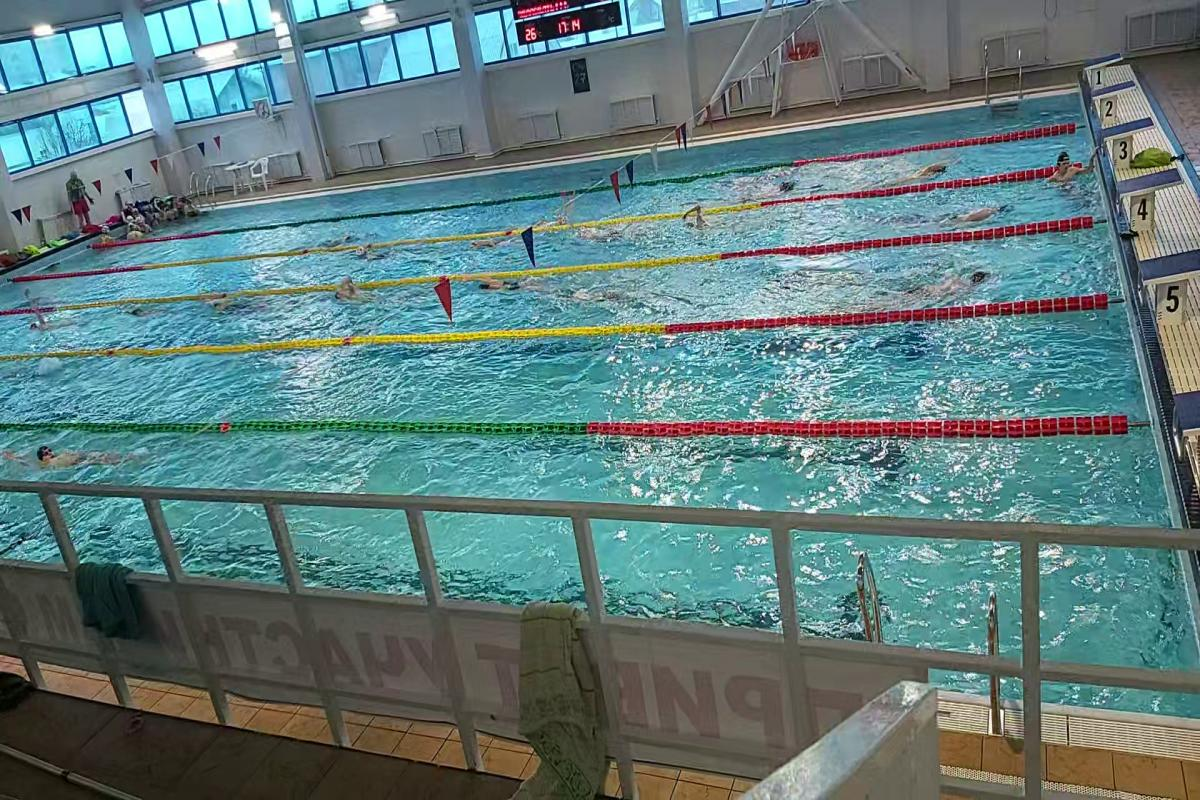swimmer: (9, 432, 139, 478), (858, 267, 1011, 306), (931, 199, 1022, 225), (208, 287, 280, 317), (680, 201, 749, 230), (1045, 145, 1089, 185), (474, 273, 552, 295), (328, 277, 390, 304), (26, 302, 81, 332), (878, 162, 962, 179), (117, 300, 180, 321)
